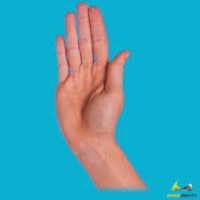ring: (65, 8, 81, 78)
